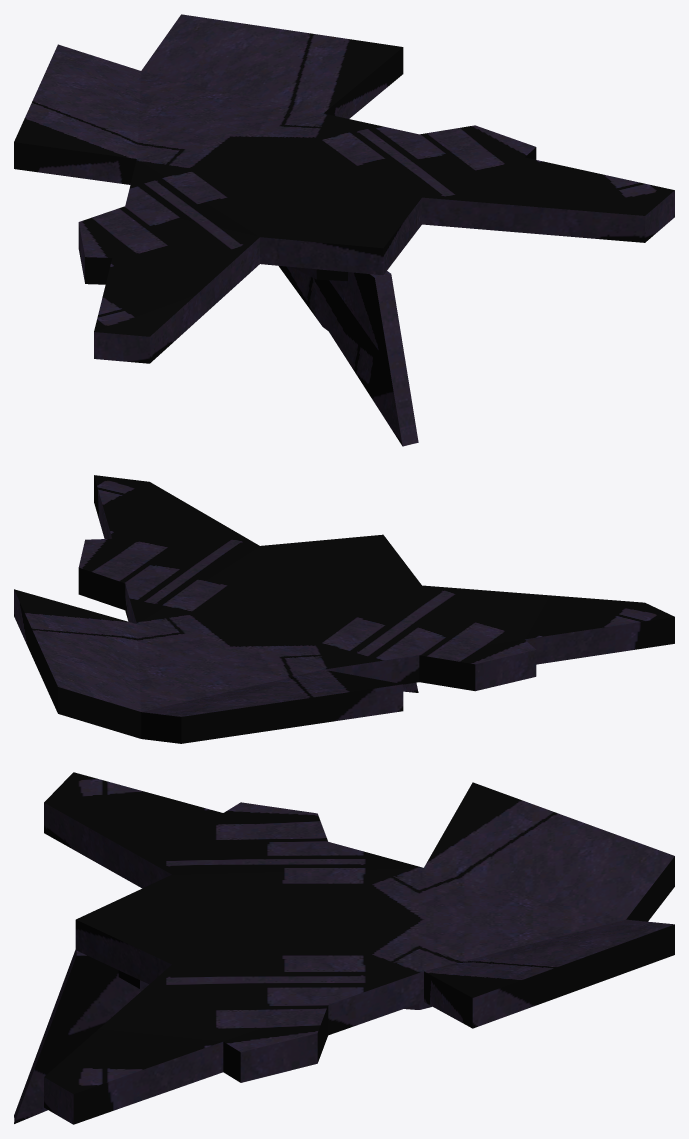
File: Qing.fbx
3 views of the same model, one above another, from view 1: azimuth 30°, elevation 25°; view 2: azimuth 150°, elevation 25°; view 3: azimuth 270°, elevation 25° (orthographic). The views are drawn at different scales.
Parts seen in each view (by area): view 1: Qing; view 2: Qing; view 3: Qing.
Part boxes in pixels (x1,y1,x2,y2): Qing: [14, 14, 674, 446]; Qing: [14, 475, 674, 743]; Qing: [14, 772, 674, 1124].
Size of the model in its own units: 120 by 39.84 by 104.
1 material, 1 textured.
